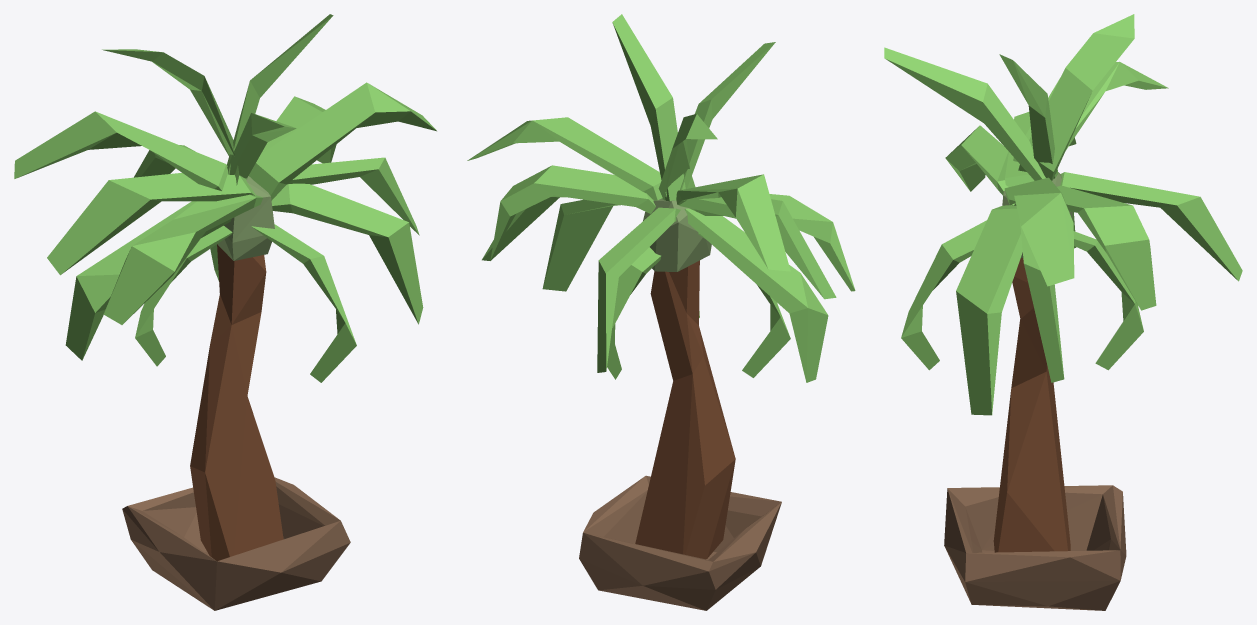
Rendered from Palm.fbx.
3 views of the same model, side by side, from view 1: azimuth 30°, elevation 25°; view 2: azimuth 150°, elevation 25°; view 3: azimuth 270°, elevation 25° (orthographic). The views are drawn at different scales.
Parts seen in each view (by area): view 1: Cube.022, Cube.009, Cube.008, Cube.025; view 2: Cube.022, Cube.009, Cube.008, Cube.025; view 3: Cube.022, Cube.008, Cube.009.
Boxes of the visible parts, x1,y1,x2,y2 form: Cube.022: [14, 14, 436, 382]; Cube.009: [190, 244, 283, 561]; Cube.008: [122, 477, 350, 610]; Cube.025: [217, 176, 274, 260]; Cube.022: [467, 14, 855, 382]; Cube.009: [635, 260, 735, 559]; Cube.008: [579, 475, 781, 610]; Cube.025: [643, 198, 711, 271]; Cube.022: [884, 14, 1242, 415]; Cube.008: [944, 485, 1126, 610]; Cube.009: [993, 258, 1070, 552].
Size of the model in its own units: 54.31 by 76.69 by 43.67.
